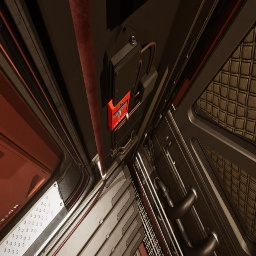FireAlarm ,: (108, 90, 131, 130)
